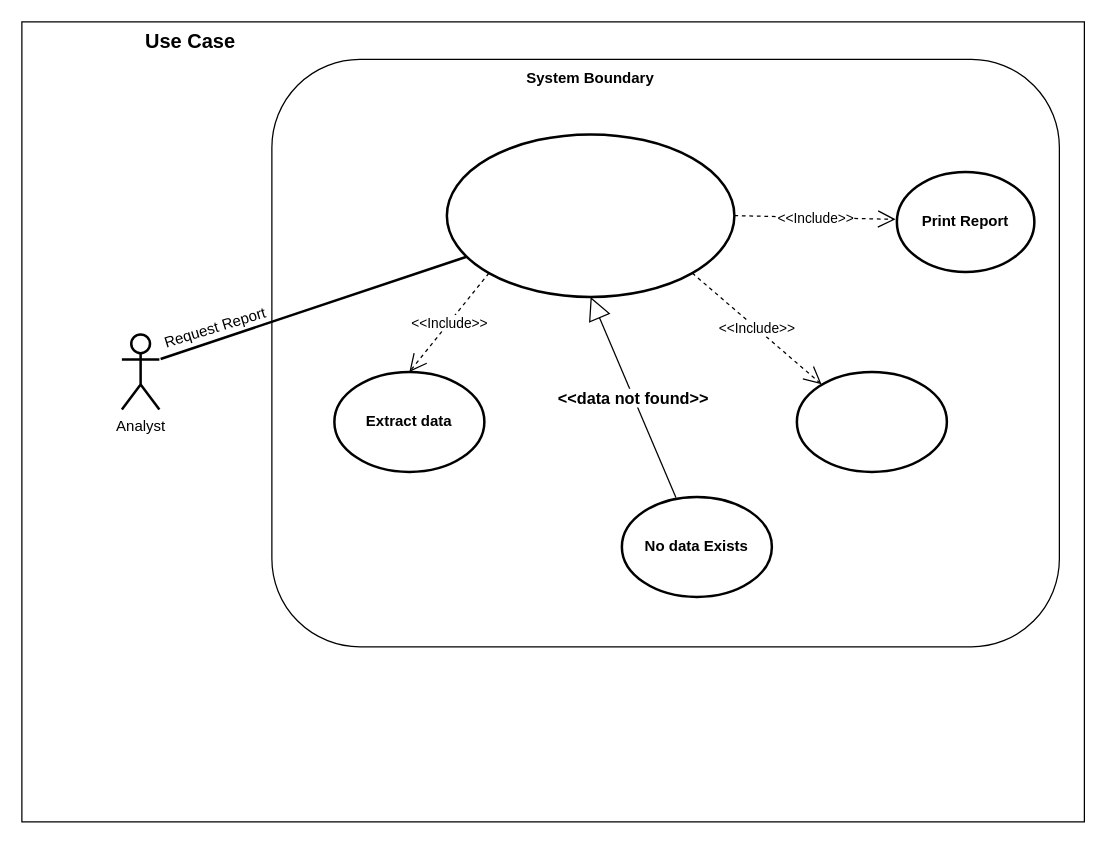
This 1106x844 diagram has some shape labels left out. Here are the shapes that lost their labels. From the top down, the centre of each, then its label:
(590,215): Request a report on cities in a continent by population
(871,421): Sort data
